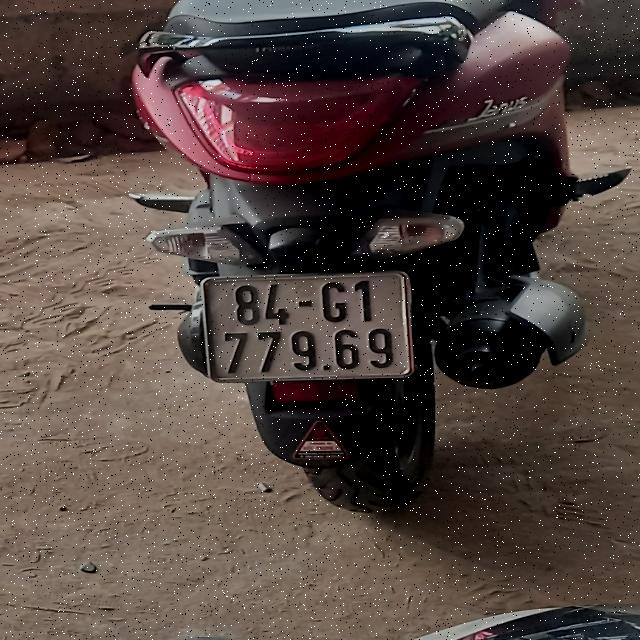1: (353, 280, 373, 322)
4: (264, 284, 290, 324)
6: (331, 329, 359, 370)
7: (220, 333, 248, 374), (259, 331, 283, 374)
8: (234, 284, 260, 326)
9: (369, 328, 395, 368), (292, 331, 316, 370)
G: (320, 282, 348, 322)
